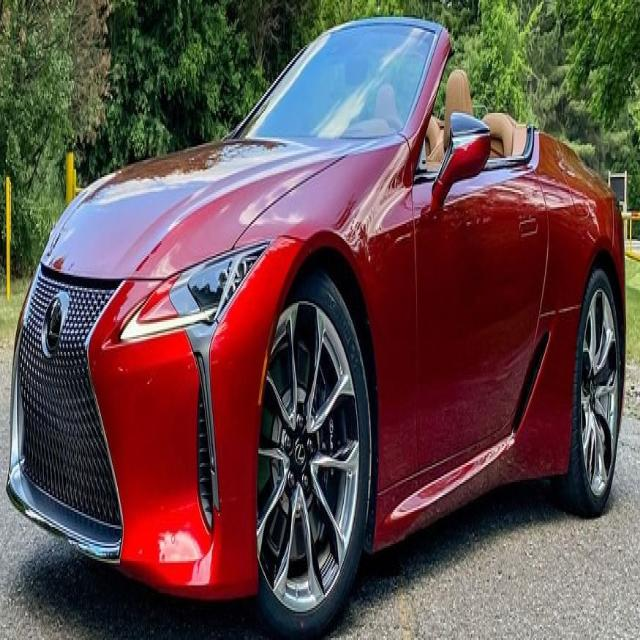red: (14, 12, 628, 587)
